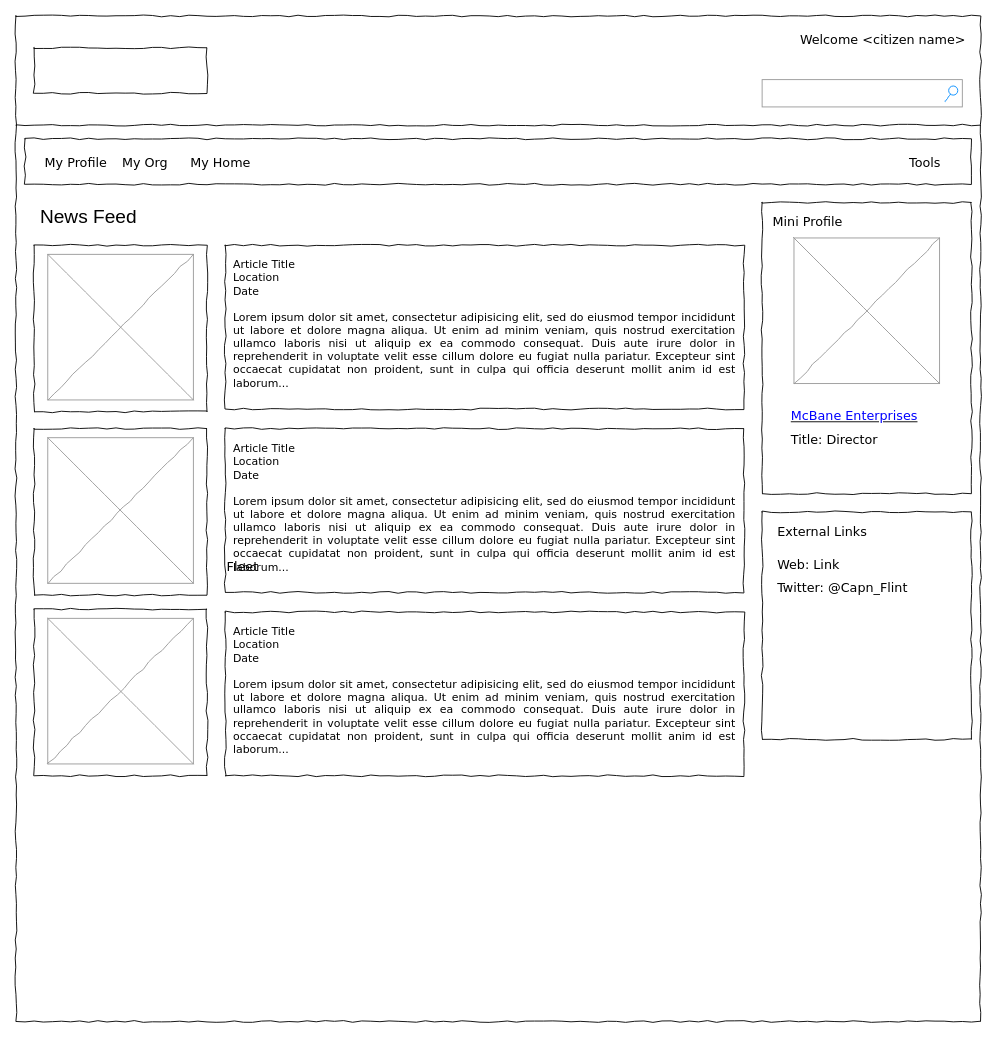
The diagram is 996 pixels wide and 1037 high, and some of its shapes have lost their labels. Each missing label, with the centre of its shape:
"LOGO" goes at point 120,70.
"Search" goes at point 861,93.
